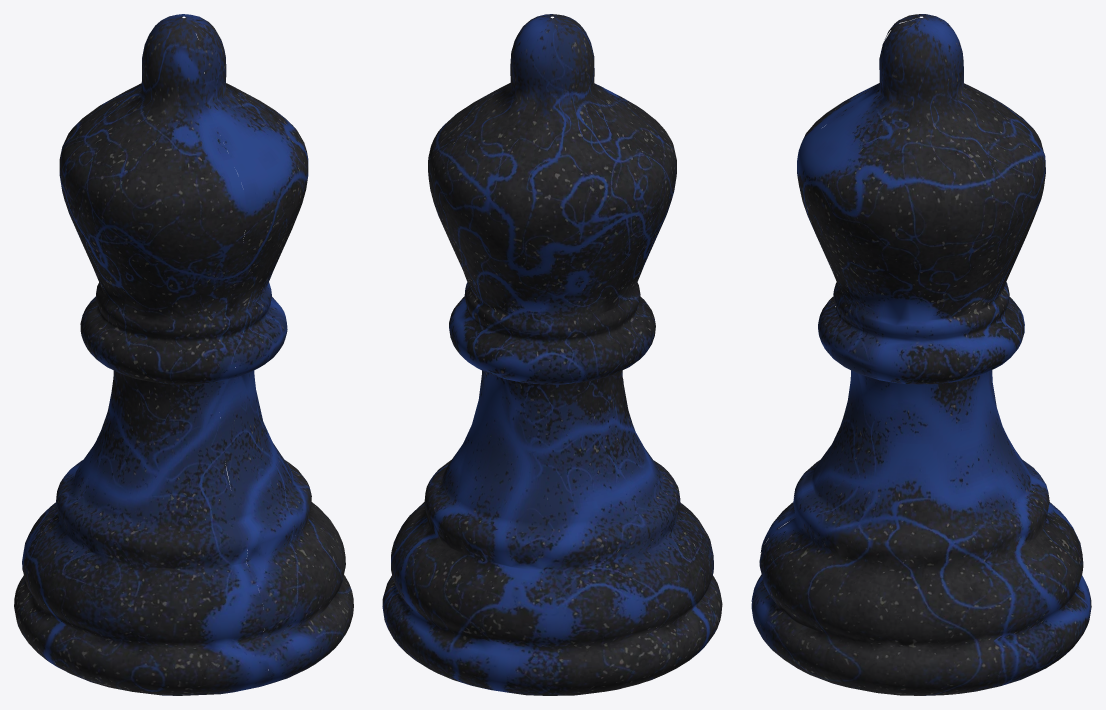
File: bishop-black.glb
3 views of the same model, side by side, from view 1: azimuth 30°, elevation 25°; view 2: azimuth 150°, elevation 25°; view 3: azimuth 270°, elevation 25° (orthographic).
Visible parts, largest first — view 1: Cobalt Vein black bishop; view 2: Cobalt Vein black bishop; view 3: Cobalt Vein black bishop.
Boxes of the visible parts, x1=… form: Cobalt Vein black bishop: x1=14, y1=14, x2=353, y2=695; Cobalt Vein black bishop: x1=382, y1=14, x2=722, y2=695; Cobalt Vein black bishop: x1=751, y1=14, x2=1091, y2=695.
Size of the model in its own units: 0.5714 by 1.15 by 0.5719.
Materials: 1 (1 with a texture image).
